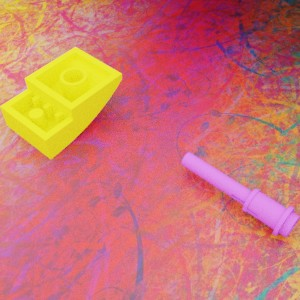lego: (0, 46, 122, 159), (181, 152, 300, 237)
